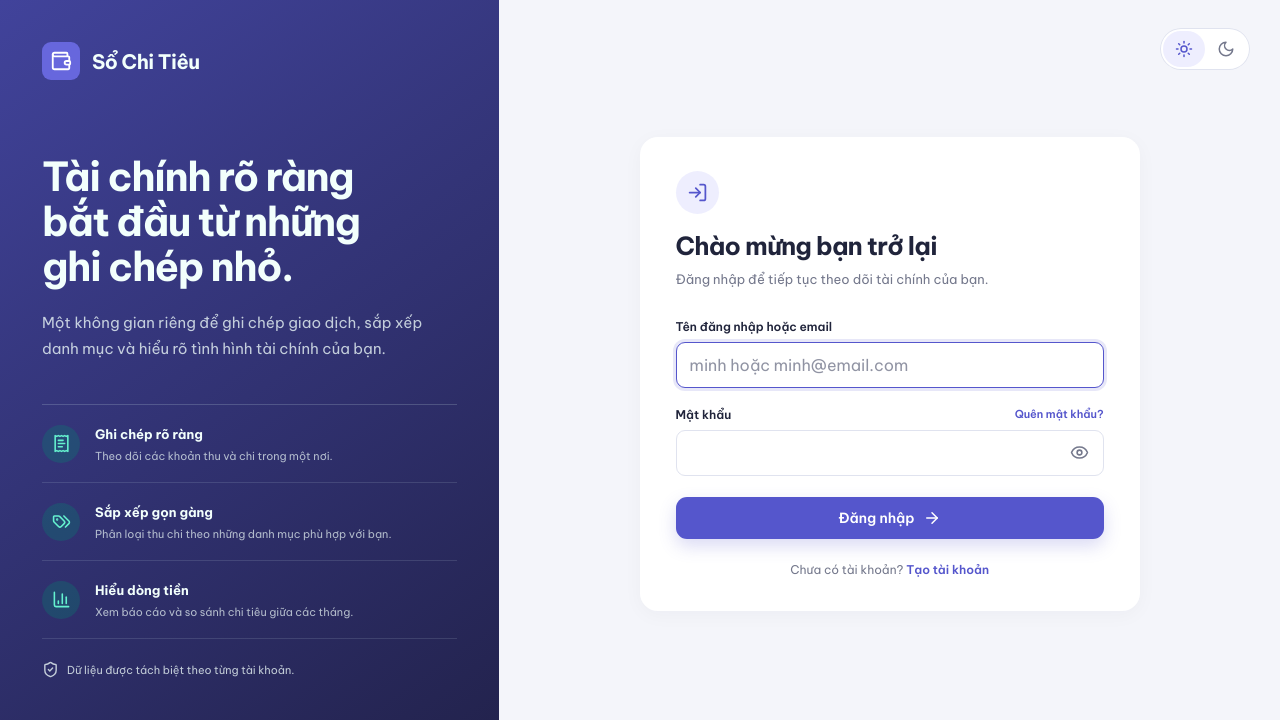
Test: authentication pages › validates login and displays an API failure
This screenshot has width=1280, height=720.
Check: the heading "Chào mừng bạn trở lại" is shown, box top-left (676, 230), bottom-right (937, 262)
Submit the form, box top-left (676, 319), bottom-right (1104, 539)
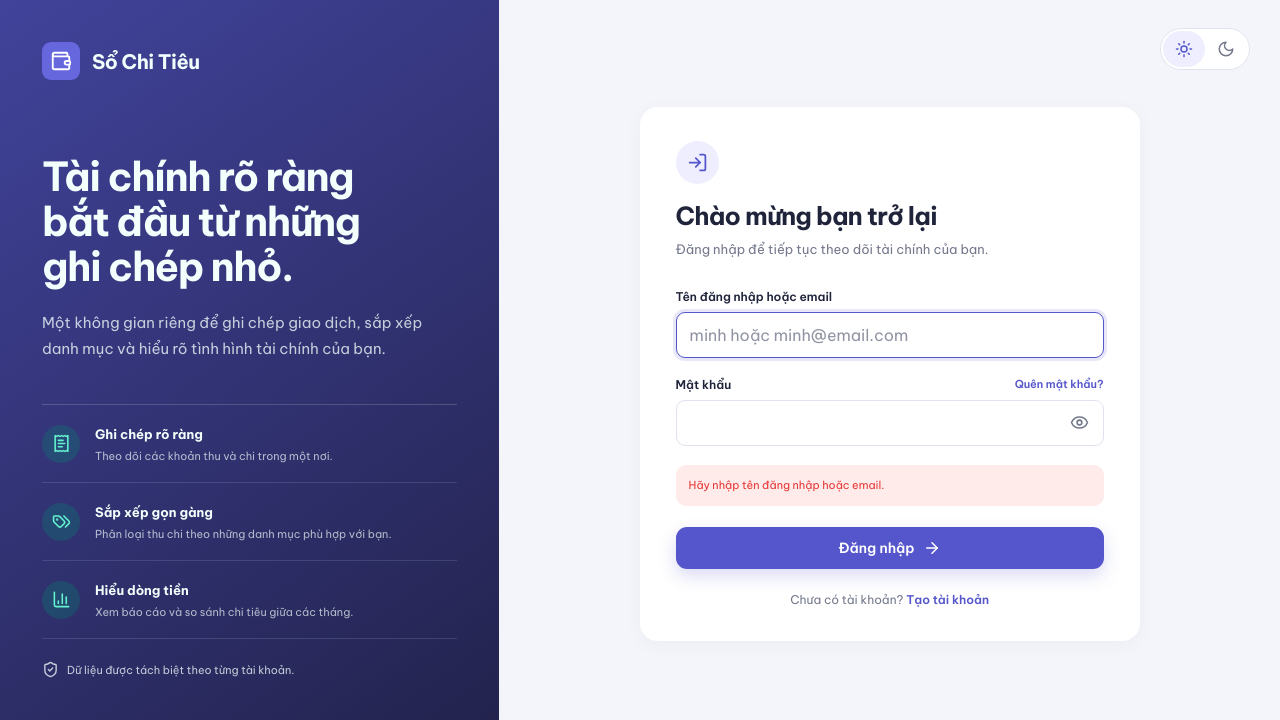
Check: the message shows "Hãy nhập tên đăng nhập", box top-left (689, 478), bottom-right (884, 492)
Type "owner" into the field labelled "Tên đăng nhập hoặc email" at (890, 335), box top-left (676, 312), bottom-right (1104, 358)
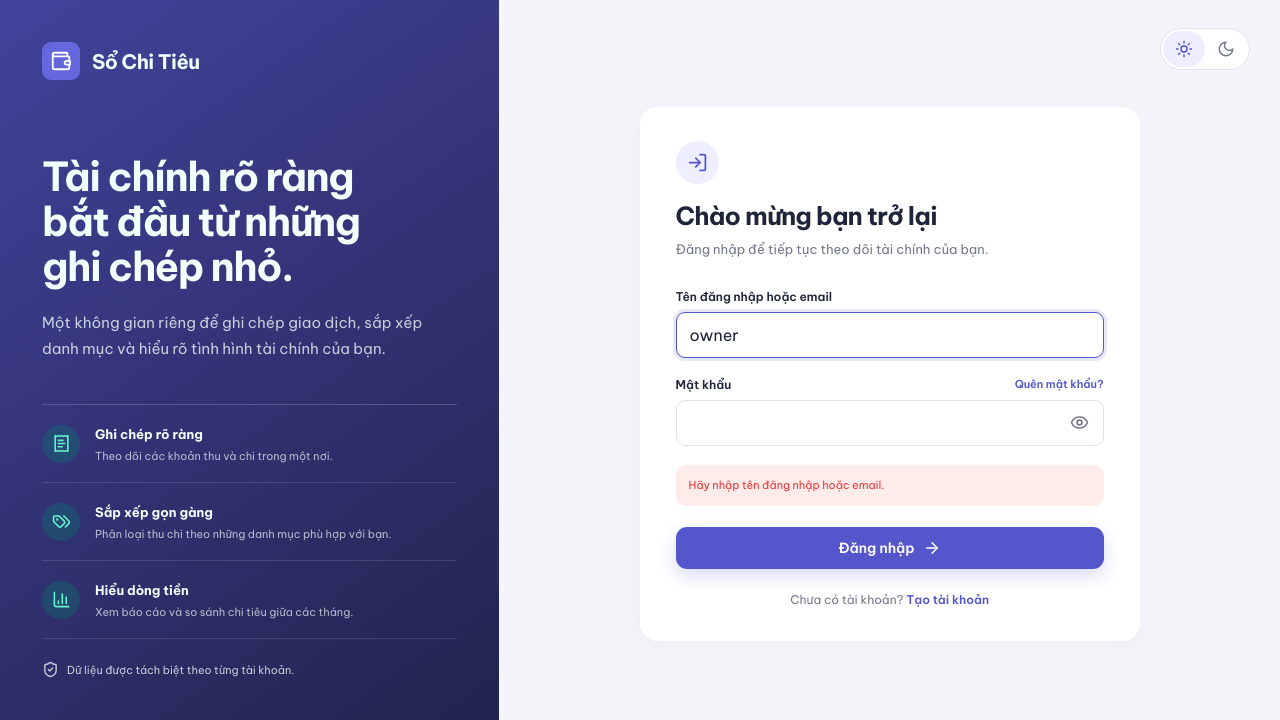
Type "wrongpass" into the password field labelled "Mật khẩu" at (890, 423), box top-left (676, 400), bottom-right (1104, 446)
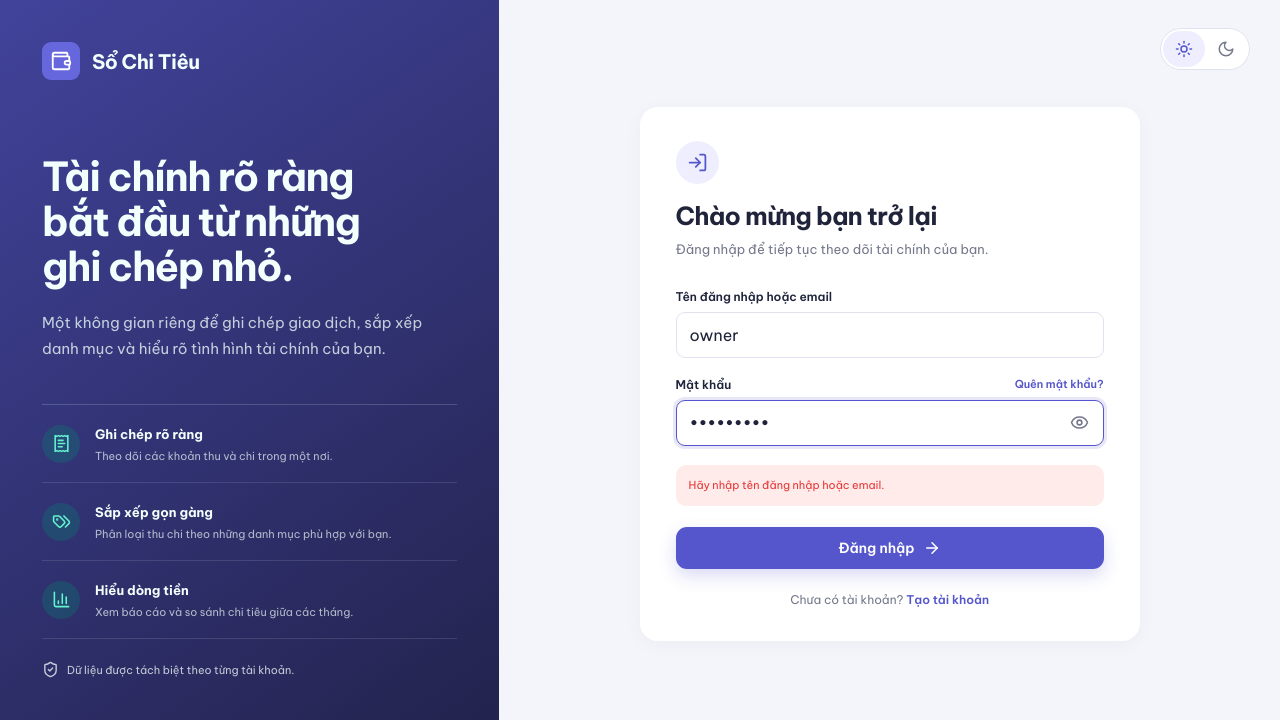
Submit the form, box top-left (676, 289), bottom-right (1104, 569)
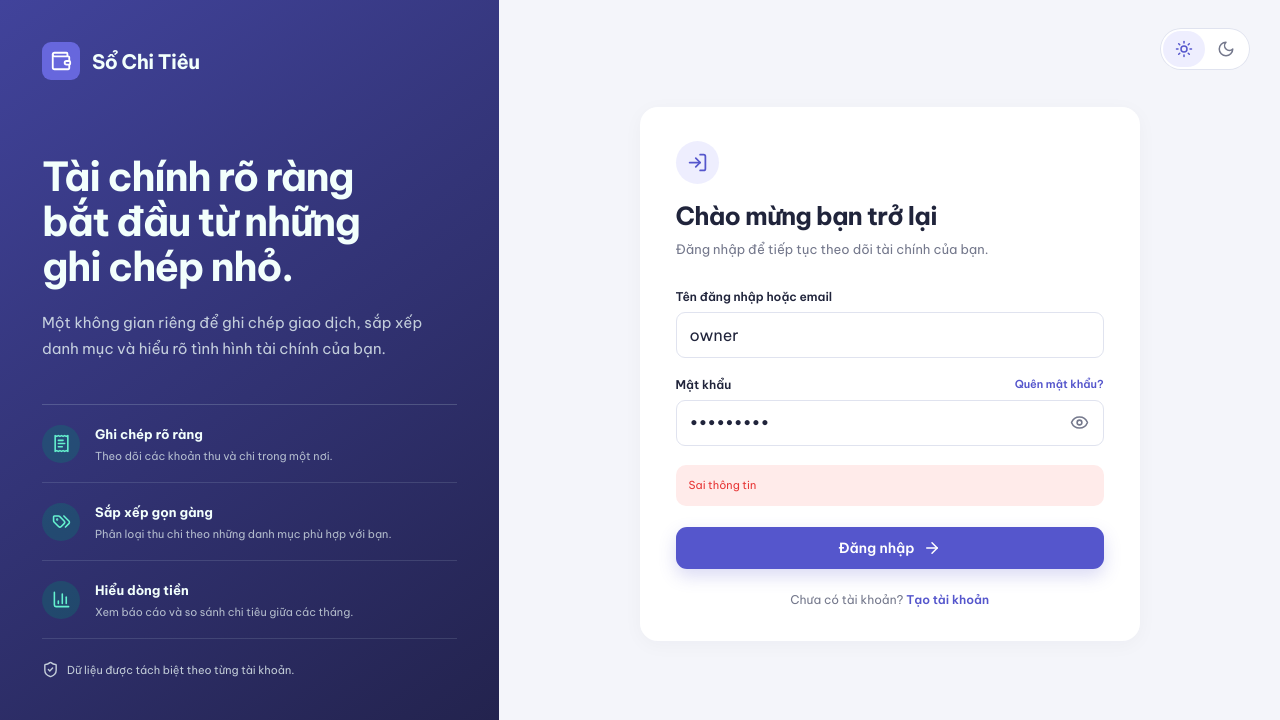
Check: the message reads "Sai thông tin", box top-left (689, 478), bottom-right (756, 492)
